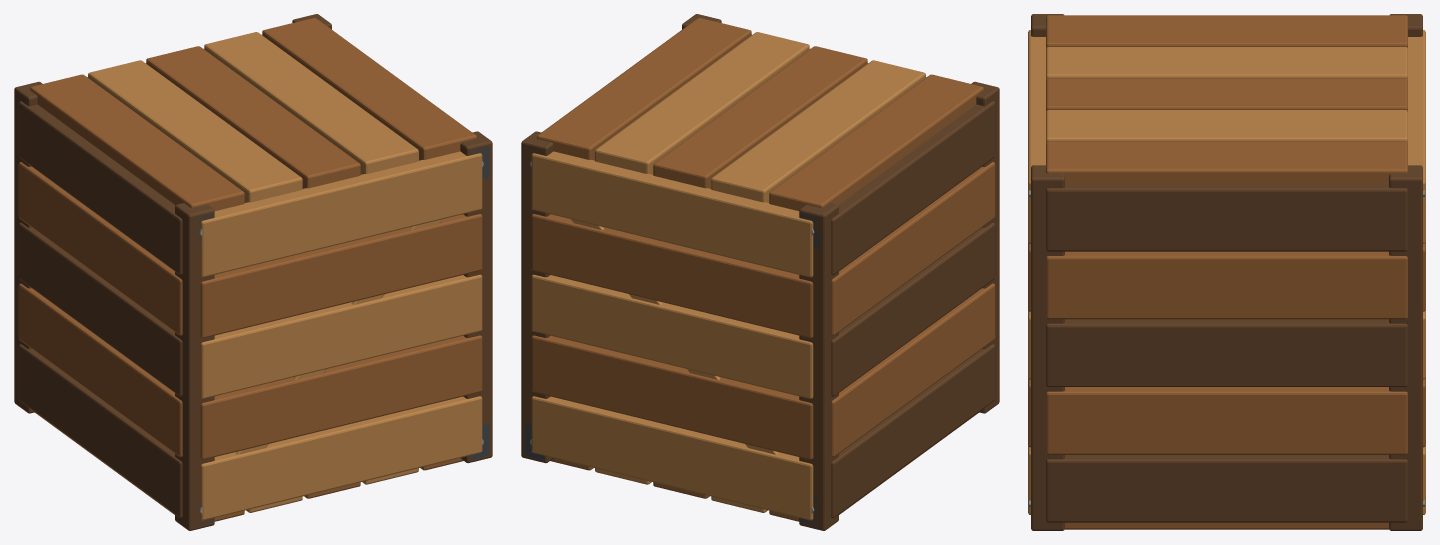
Rendered from WoodCrate.fbx.
The picture shows the model from 3 angles, left to right: view 1: azimuth 30°, elevation 25°; view 2: azimuth 150°, elevation 25°; view 3: azimuth 270°, elevation 25°; orthographic projection. The views are drawn at different scales.
Parts seen in each view (by area): view 1: WoodCrate_Mesh; view 2: WoodCrate_Mesh; view 3: WoodCrate_Mesh.
Boxes of the visible parts, x1,y1,x2,y2 form: WoodCrate_Mesh: [14, 14, 492, 530]; WoodCrate_Mesh: [521, 14, 999, 530]; WoodCrate_Mesh: [1028, 14, 1425, 530].
Size of the model in its own units: 1 by 1 by 1.
